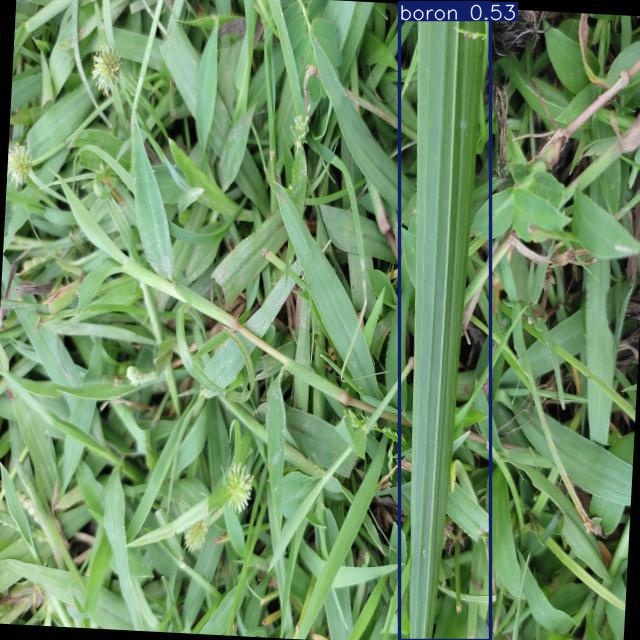nitrogen: (399, 2, 490, 640)
